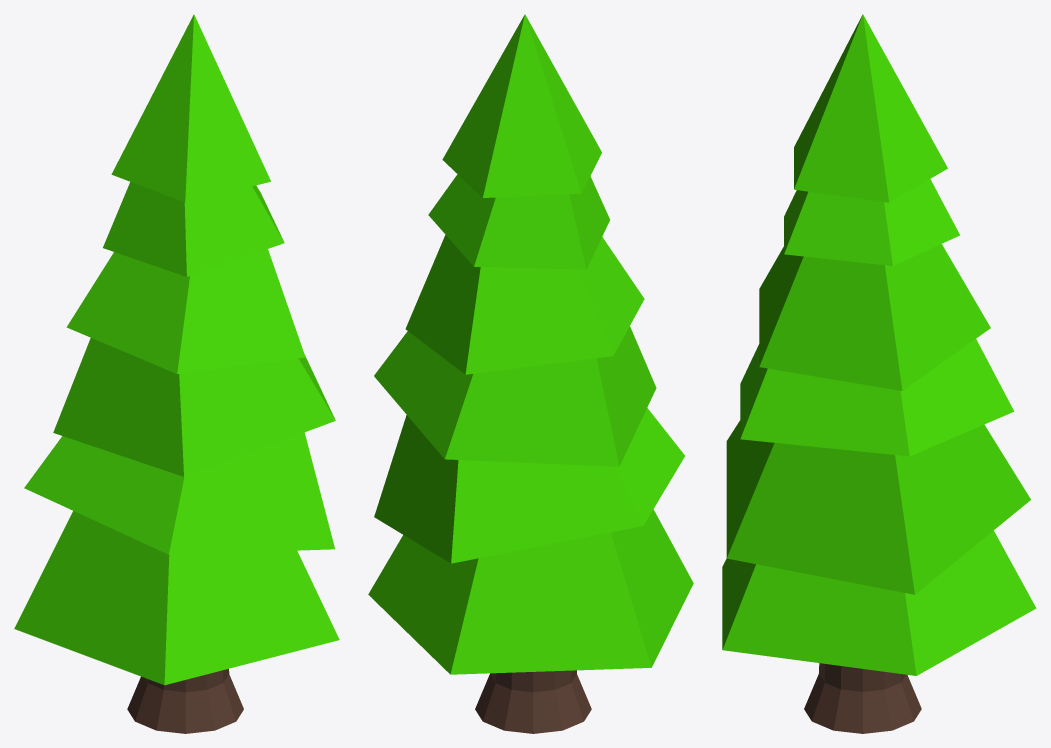
Rendered from Boon.fbx.
3 views of the same model, side by side, from view 1: azimuth 30°, elevation 25°; view 2: azimuth 150°, elevation 25°; view 3: azimuth 270°, elevation 25° (orthographic).
Parts seen in each view (by area): view 1: Cylinder; view 2: Cylinder; view 3: Cylinder.
Part boxes in pixels (box(x1,y1,x2,y2)): Cylinder: box(14, 14, 339, 733); Cylinder: box(368, 14, 693, 733); Cylinder: box(722, 14, 1036, 733).
Bounding box in the file's own units: 387 × 905 × 368.
